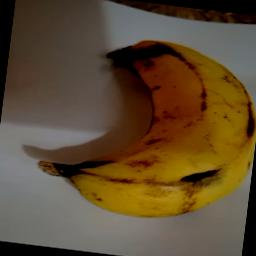Banana Unripe: (27, 22, 256, 229)
